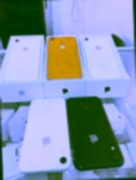iphone: (16, 98, 69, 172), (4, 35, 43, 79), (47, 36, 83, 79)
